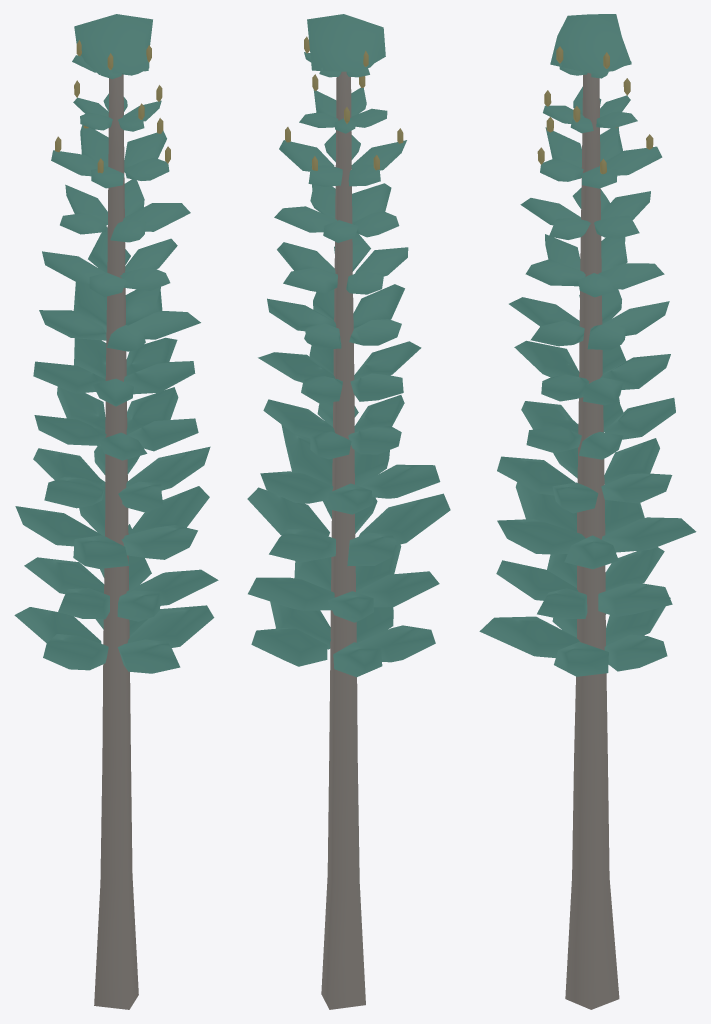
Rendered from Blender_NobleFir_1_Far.glb.
3 renders of one model, left to right at view 1: azimuth 30°, elevation 25°; view 2: azimuth 150°, elevation 25°; view 3: azimuth 270°, elevation 25°, orthographic.
Parts seen in each view (by area): view 1: Blender_NobleFir_1_Far; view 2: Blender_NobleFir_1_Far; view 3: Blender_NobleFir_1_Far.
Part boxes in pixels (<box>): Blender_NobleFir_1_Far: <box>14,14,218,1009</box>; Blender_NobleFir_1_Far: <box>247,14,450,1009</box>; Blender_NobleFir_1_Far: <box>479,14,696,1009</box>.
Size of the model in its own units: 6.22 by 32.68 by 6.54.
